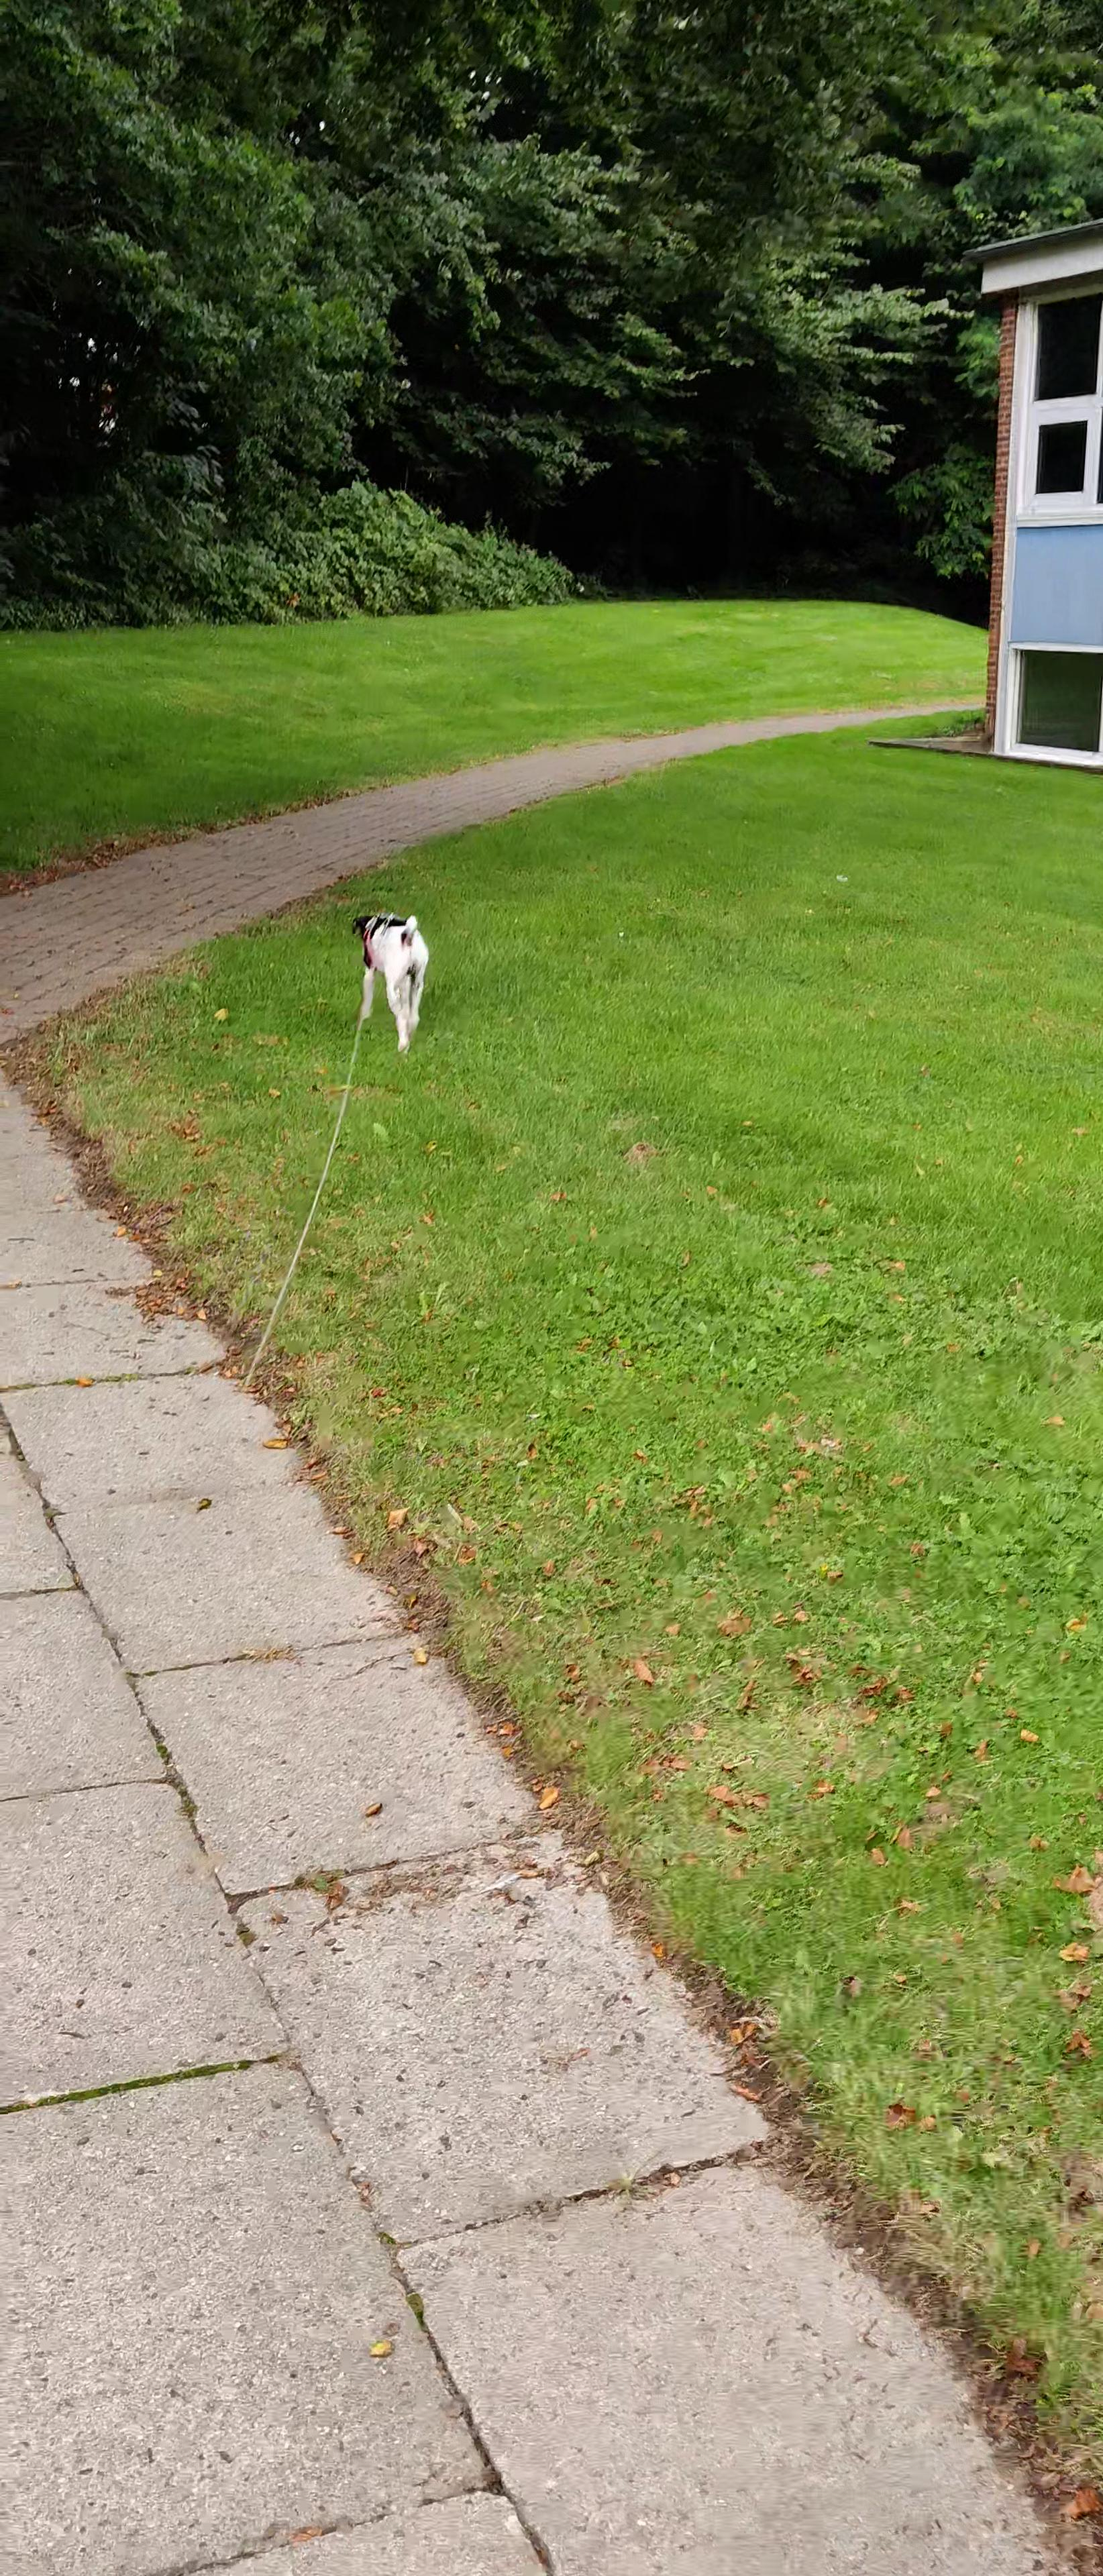Dog: (347, 908, 429, 1056)
